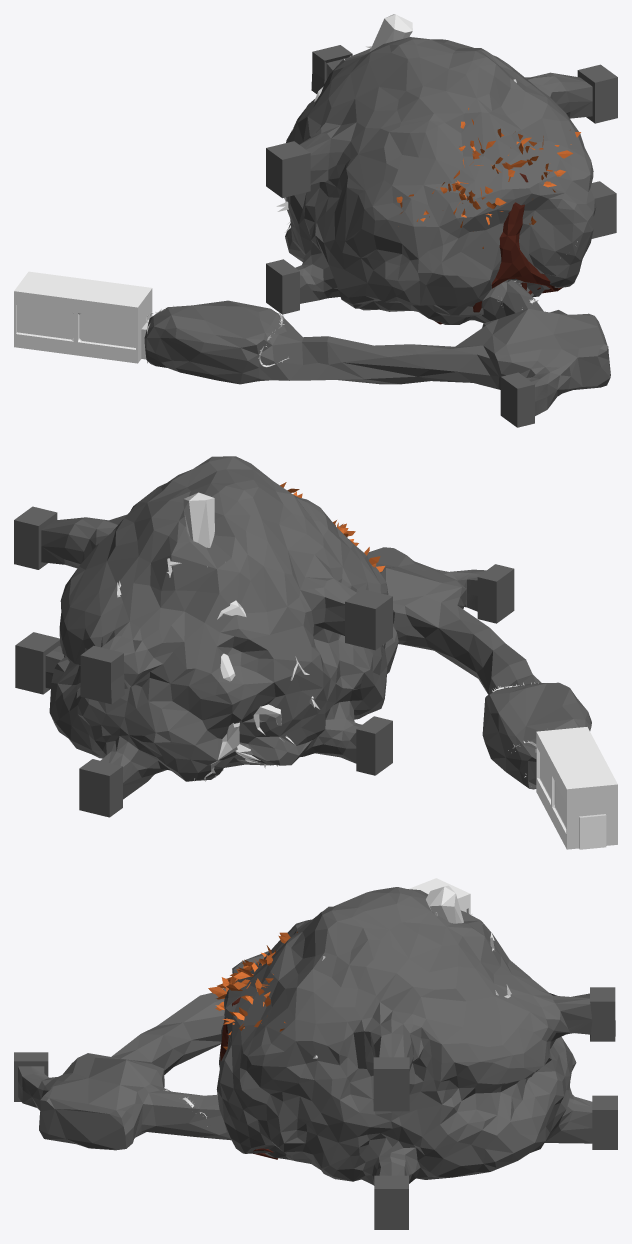
The model's file is Treelelve.fbx.
3 renders of one model, top to bottom at view 1: azimuth 30°, elevation 25°; view 2: azimuth 150°, elevation 25°; view 3: azimuth 270°, elevation 25°, orthographic. The views are drawn at different scales.
Visible parts, largest first — view 1: PoziomTestDeciamte, BezierCurve_130.002, DuzeDrzewo, Korzeń_Duży; view 2: PoziomTestDeciamte, BezierCurve_130.002, Korzeń_Duży; view 3: PoziomTestDeciamte, DuzeDrzewo, Korzeń_Duży, BezierCurve_130.002.
Boxes of the visible parts, x1,y1,x2,y2 form: PoziomTestDeciamte: (144, 37, 617, 427); BezierCurve_130.002: (14, 271, 160, 363); DuzeDrzewo: (396, 108, 580, 324); Korzeń_Duży: (284, 14, 412, 232); PoziomTestDeciamte: (14, 456, 591, 817); BezierCurve_130.002: (535, 727, 617, 849); Korzeń_Duży: (183, 492, 309, 781); PoziomTestDeciamte: (14, 887, 617, 1229); DuzeDrzewo: (208, 931, 297, 1159); Korzeń_Duży: (426, 885, 463, 923); BezierCurve_130.002: (409, 878, 470, 914).
Size of the model in its own units: 14328 by 5744 by 12591.
